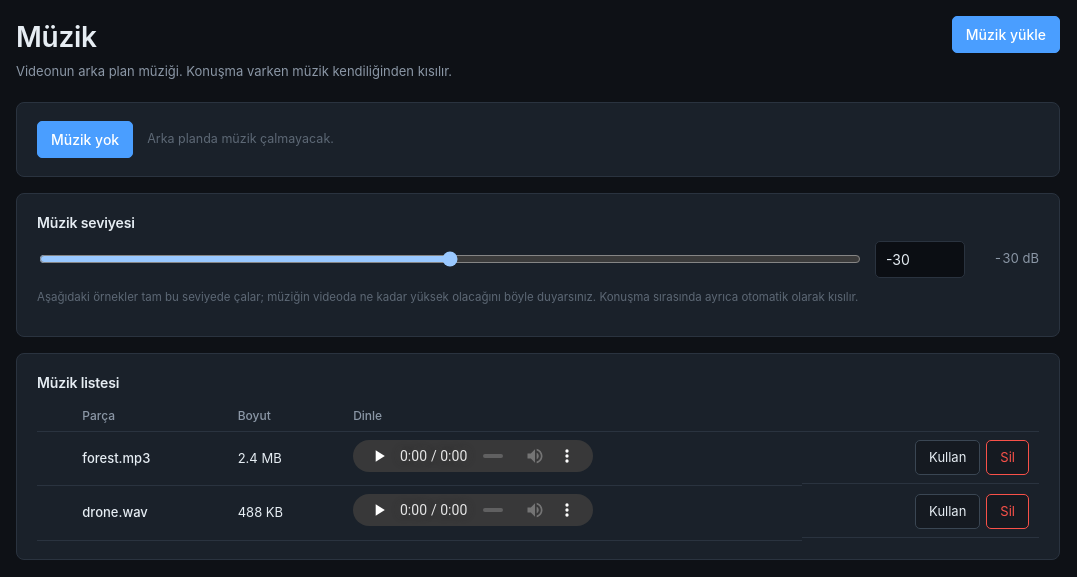
Test: MusicPage › selecting a track points the project at it as uploaded music
Click the button "Kullan" in the row of "forest.mp3": (948, 458) [915,440,980,475]
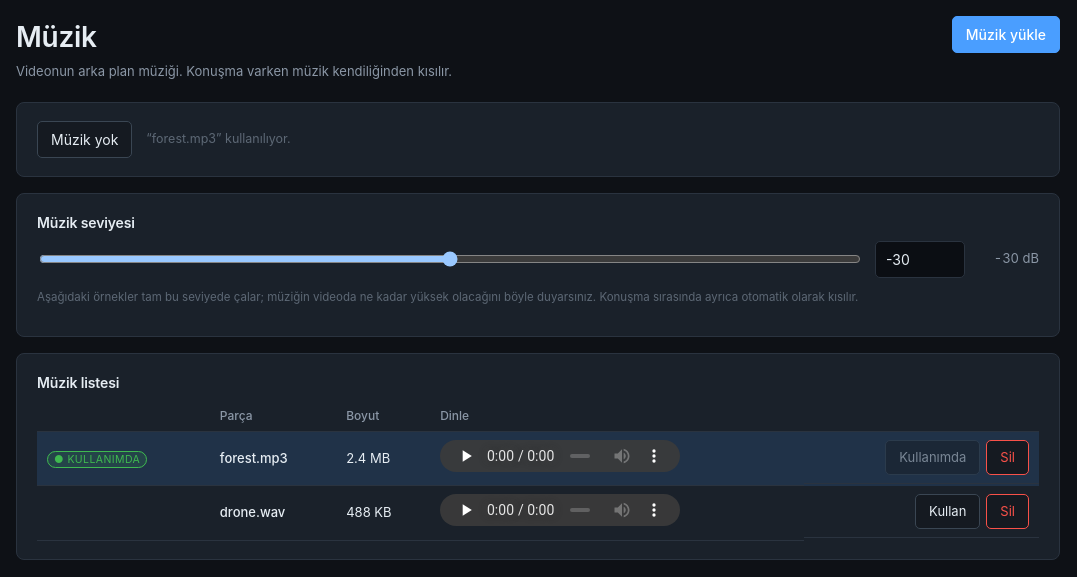
Check: the text "forest.mp3" is shown, box [210,431,336,486]
Check: the text "● kullanımda" is shown, box [47,451,147,468]
